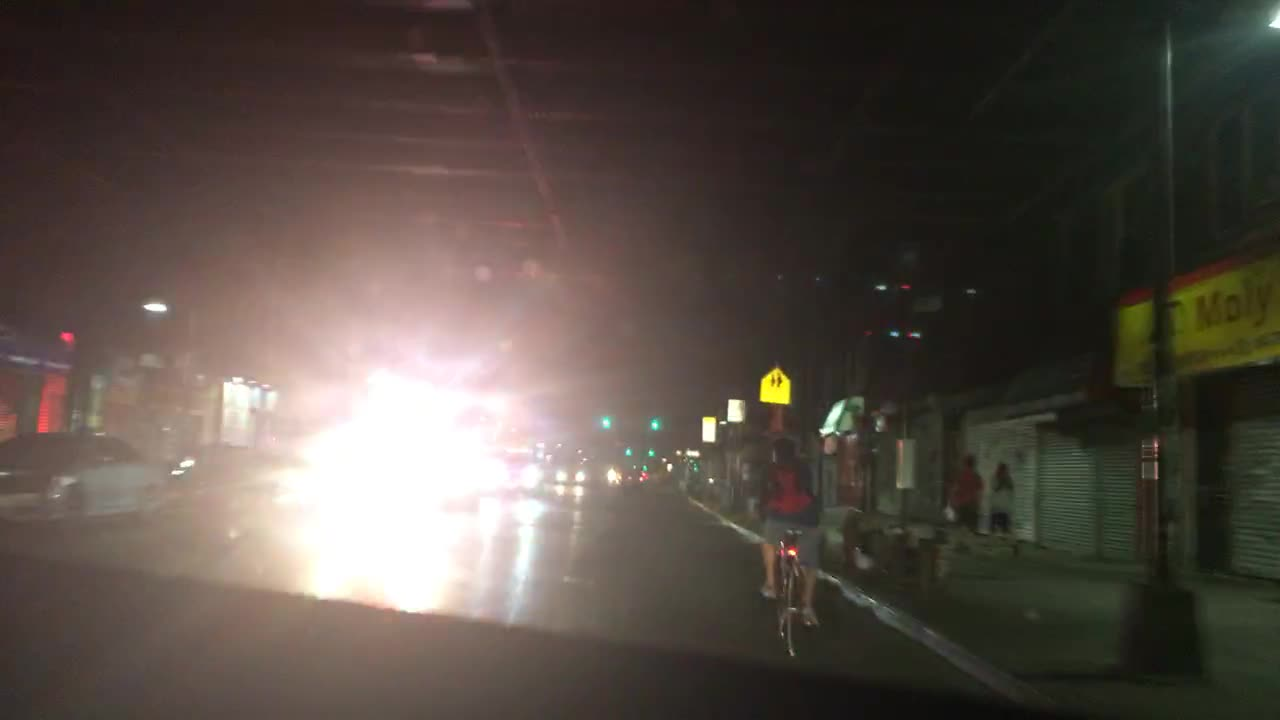bike: (751, 497, 821, 661)
car: (0, 427, 163, 524), (168, 442, 257, 485), (509, 459, 542, 492), (551, 464, 584, 483), (618, 466, 637, 483), (631, 467, 651, 481), (606, 466, 621, 480)
person: (944, 450, 992, 551), (985, 461, 1021, 554)
rider: (752, 433, 830, 632)
traffic light: (602, 416, 611, 429), (651, 417, 660, 430), (640, 462, 651, 472), (691, 462, 702, 471), (625, 446, 632, 458), (647, 447, 653, 457)
traffic sign: (757, 364, 793, 407), (894, 436, 919, 491), (728, 398, 746, 425), (702, 415, 717, 443)
